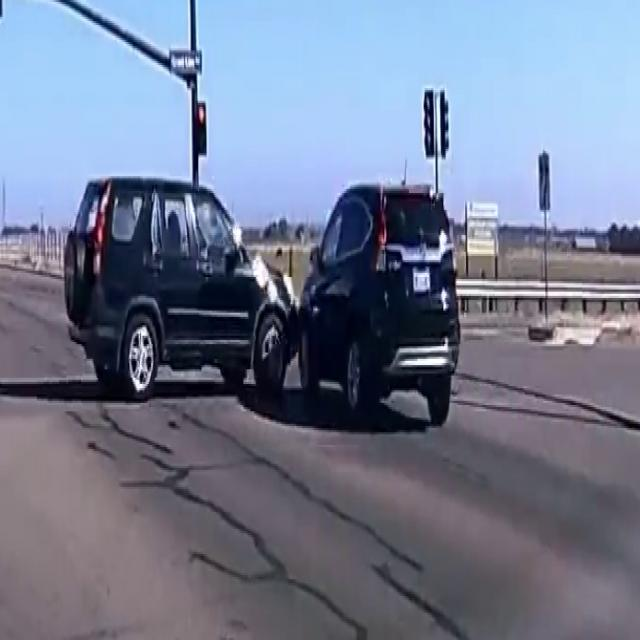accident: (122, 158, 458, 454)
